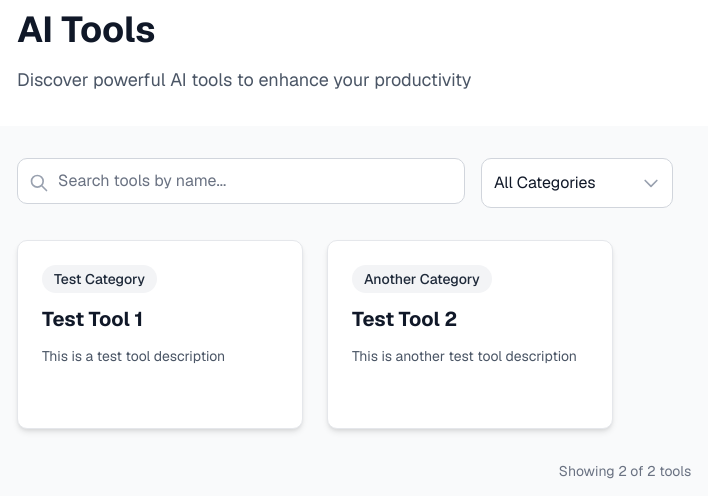
ToolsPage › filters tools by selected category
Check: the link "Test Tool 1" is shown, box [42,306,143,332]
Check: the link "Test Tool 2" is shown, box [352,306,457,332]
Select "Test Category" in the dropdown showing "All Categories" at (577, 183), box [481,158,673,208]
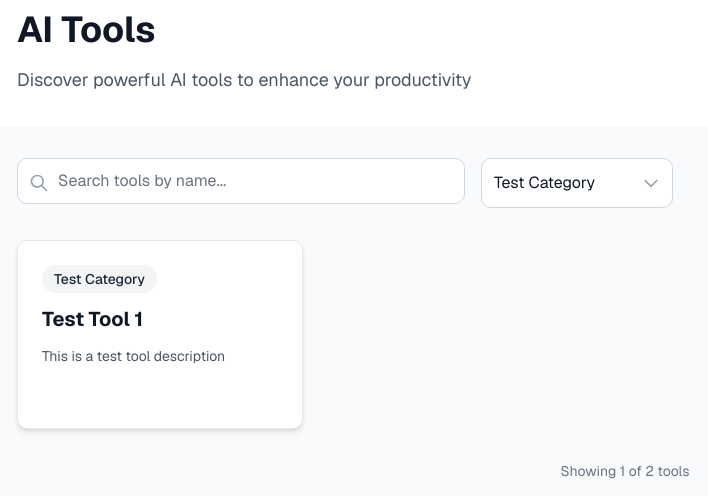
Check: the link "Test Tool 1" is shown, box [42,306,143,332]
Check: the link "Test Tool 2" is gone
